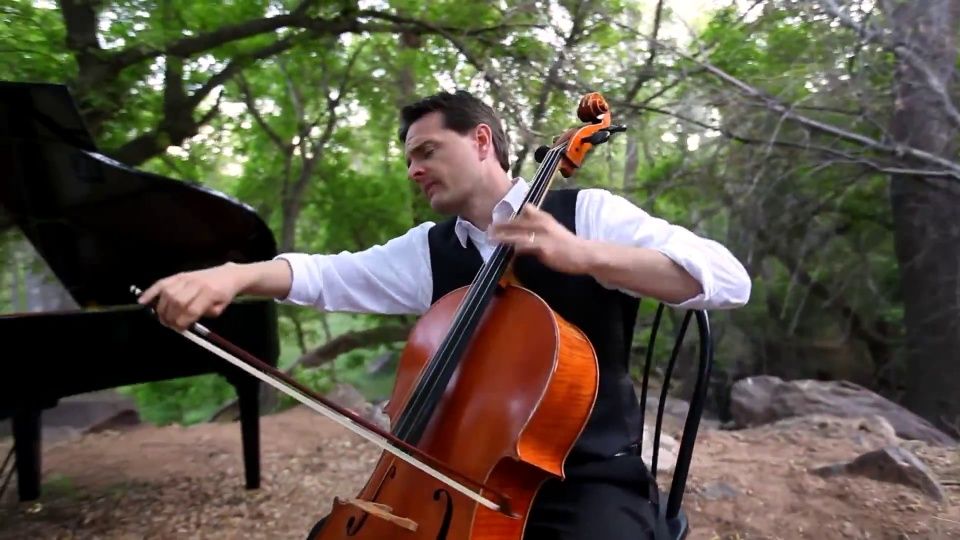person: (127, 89, 754, 518), (538, 83, 626, 190)
